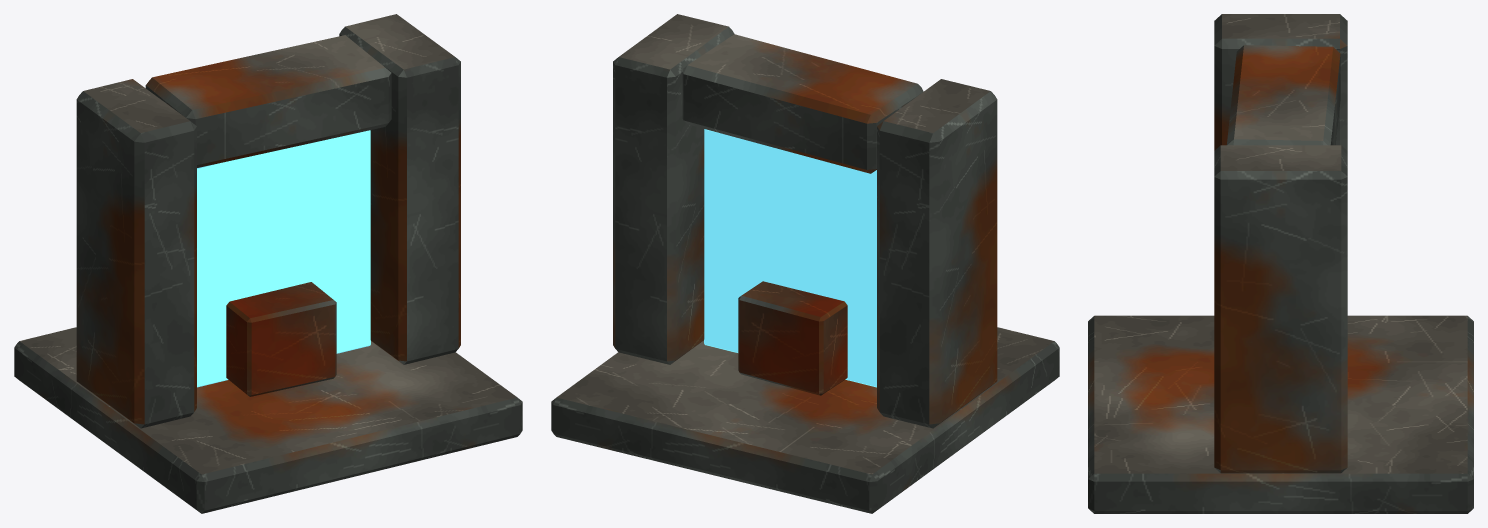
Rendered from R4X_StructuralScanner_LOD1.glb.
3 views of the same model, side by side, from view 1: azimuth 30°, elevation 25°; view 2: azimuth 150°, elevation 25°; view 3: azimuth 270°, elevation 25° (orthographic). The views are drawn at different scales.
Parts seen in each view (by area): view 1: R4X_StructuralScanner_LOD1; view 2: R4X_StructuralScanner_LOD1; view 3: R4X_StructuralScanner_LOD1.
Boxes of the visible parts, x1,y1,x2,y2 form: R4X_StructuralScanner_LOD1: [14, 14, 522, 513]; R4X_StructuralScanner_LOD1: [551, 14, 1059, 513]; R4X_StructuralScanner_LOD1: [1088, 14, 1473, 513].
Size of the model in its own units: 0.52 by 0.51 by 0.52.
Materials: 4 (3 with a texture image).
